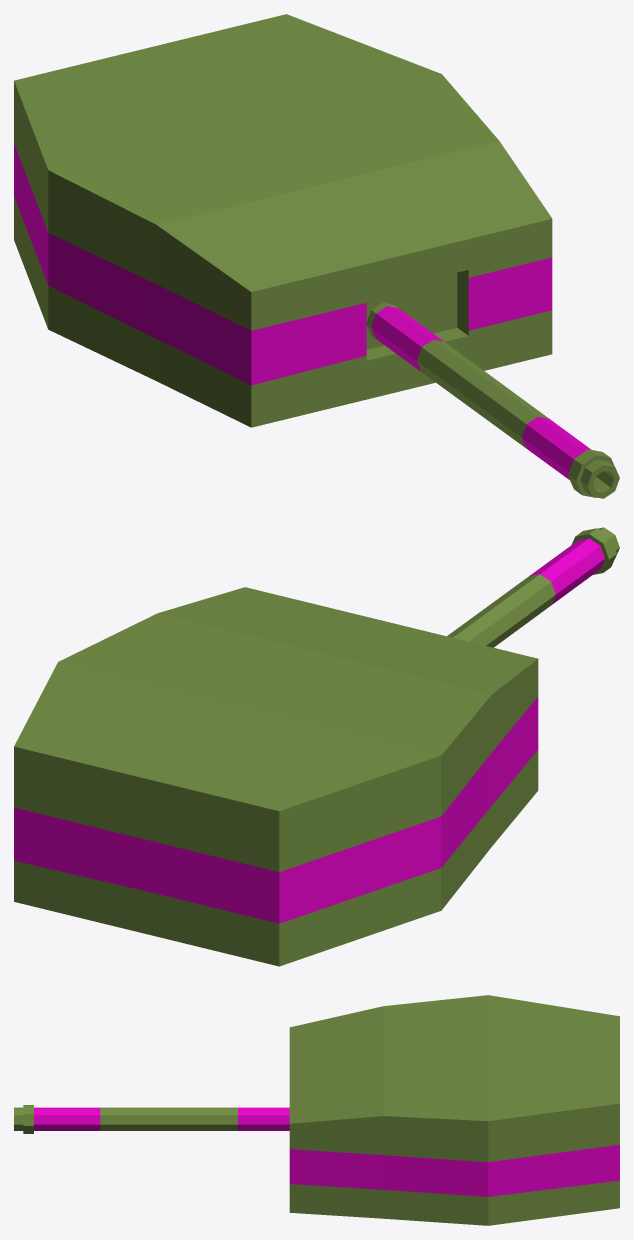
Rendered from Cromwell Head.fbx.
3 renders of one model, top to bottom at view 1: azimuth 30°, elevation 25°; view 2: azimuth 150°, elevation 25°; view 3: azimuth 270°, elevation 25°, orthographic. The views are drawn at different scales.
Parts seen in each view (by area): view 1: pCube3; view 2: pCube3; view 3: pCube3.
Part boxes in pixels (box(x1,y1,x2,y2)): pCube3: box(14, 14, 619, 498); pCube3: box(14, 527, 619, 966); pCube3: box(14, 995, 619, 1225).
Size of the model in its own units: 1.38 by 0.5342 by 2.8.
